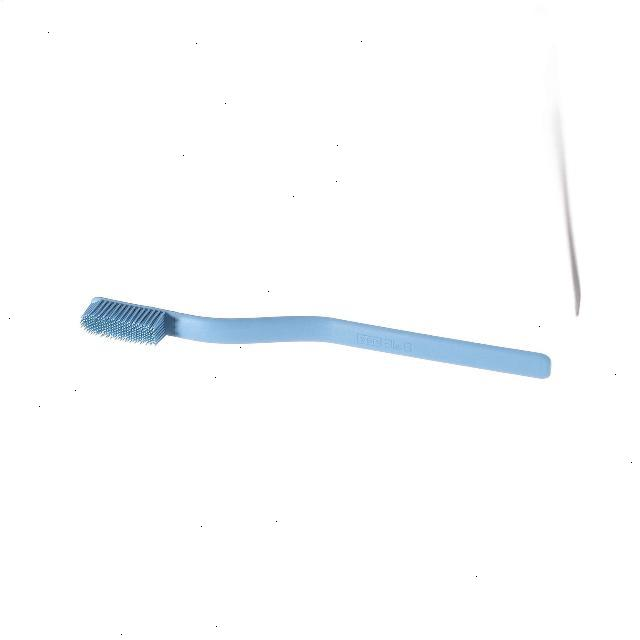toothbrush: (40, 254, 588, 432)
